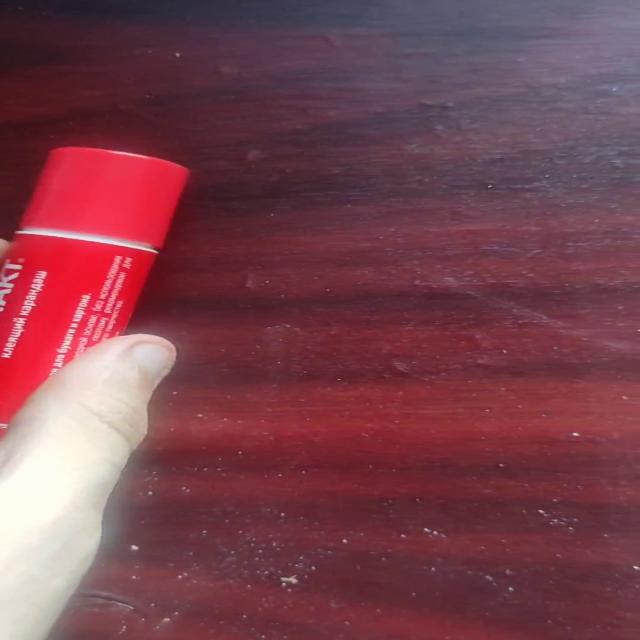glue: (0, 144, 190, 438)
